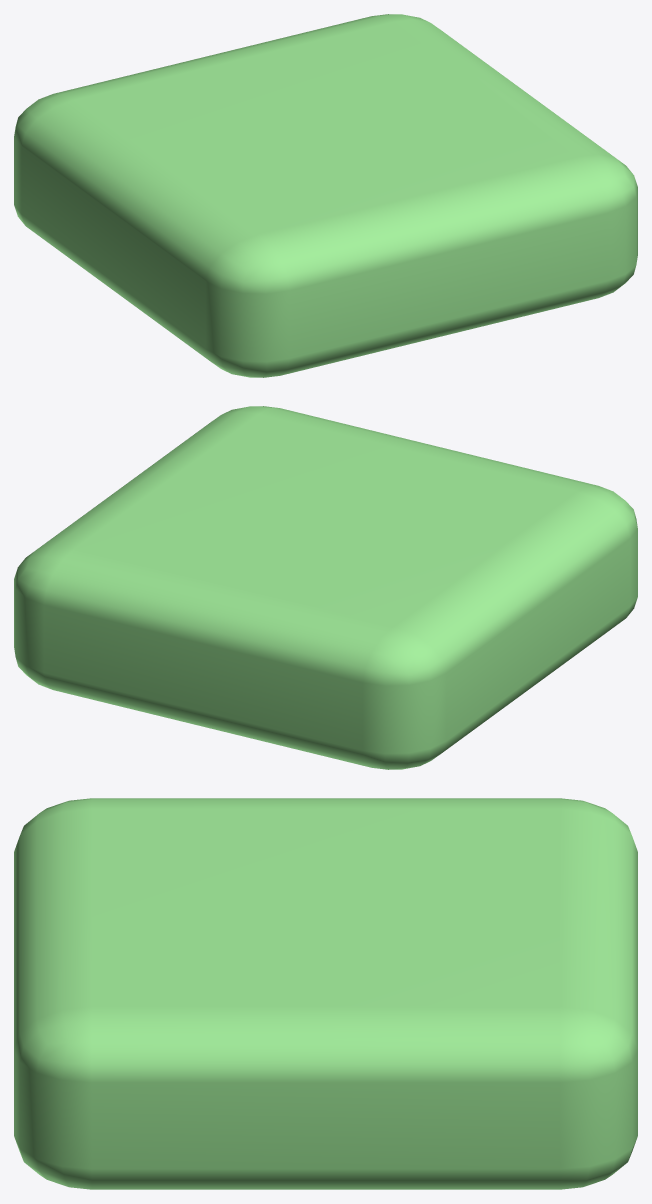
Rendered from Cube_Smooth.fbx.
The picture shows the model from 3 angles, top to bottom: view 1: azimuth 30°, elevation 25°; view 2: azimuth 150°, elevation 25°; view 3: azimuth 270°, elevation 25°; orthographic projection. The views are drawn at different scales.
Visible parts, largest first — view 1: Cube_Smooth; view 2: Cube_Smooth; view 3: Cube_Smooth.
Boxes of the visible parts, x1,y1,x2,y2 form: Cube_Smooth: (14, 14, 637, 377); Cube_Smooth: (14, 406, 637, 769); Cube_Smooth: (14, 798, 637, 1189).
Bounding box in the file's own units: 100 × 30.46 × 100.
